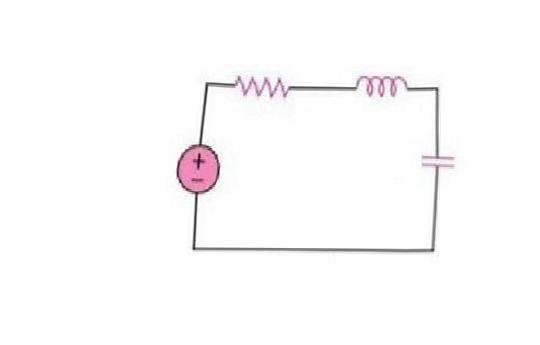Battery: (161, 135, 237, 210)
